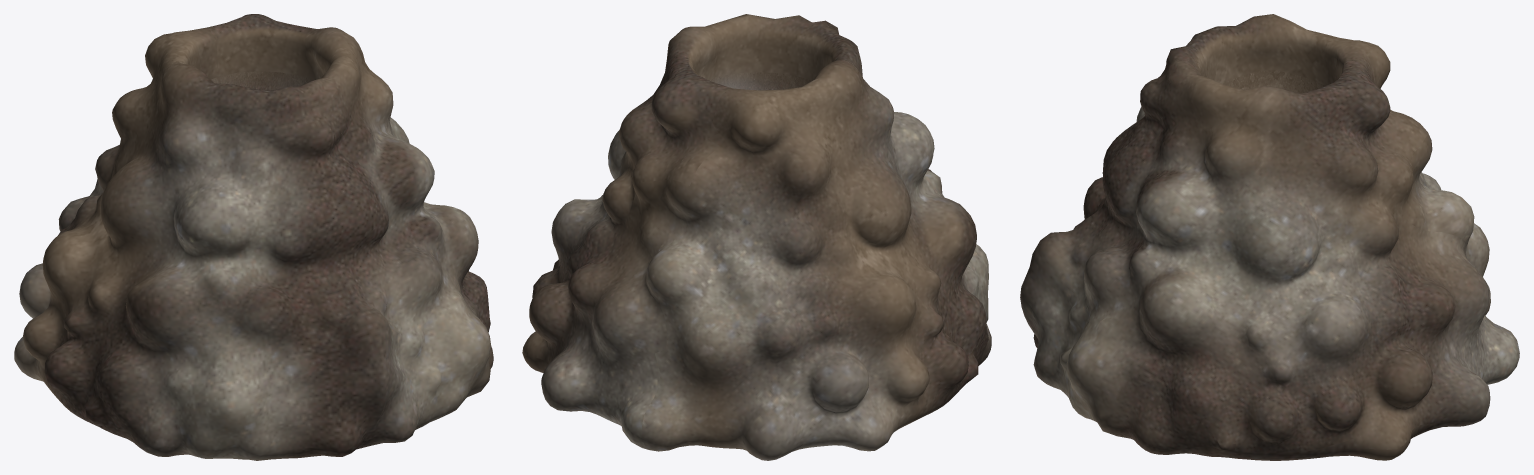
File: MudHole.fbx
The picture shows the model from 3 angles, left to right: view 1: azimuth 30°, elevation 25°; view 2: azimuth 150°, elevation 25°; view 3: azimuth 270°, elevation 25°; orthographic projection. The views are drawn at different scales.
Parts seen in each view (by area): view 1: HOLE_AND_ONE_2:Group44844; view 2: HOLE_AND_ONE_2:Group44844; view 3: HOLE_AND_ONE_2:Group44844.
Boxes of the visible parts, x1,y1,x2,y2 form: HOLE_AND_ONE_2:Group44844: (14,14,493,460); HOLE_AND_ONE_2:Group44844: (522,14,991,460); HOLE_AND_ONE_2:Group44844: (1020,14,1519,460).
Bounding box in the file's own units: 17.59 × 13.19 × 18.25.
